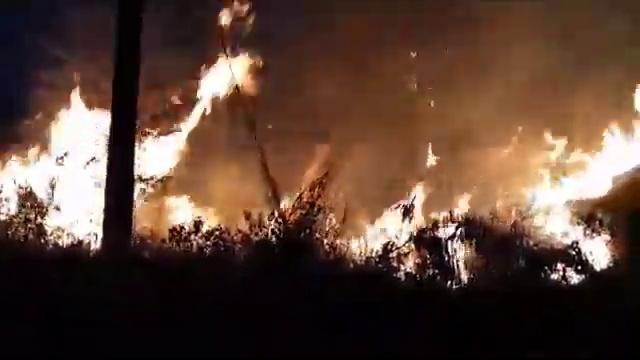fire: (45, 109, 107, 244), (544, 170, 611, 214), (134, 129, 187, 177), (594, 125, 640, 175), (202, 55, 240, 91)
